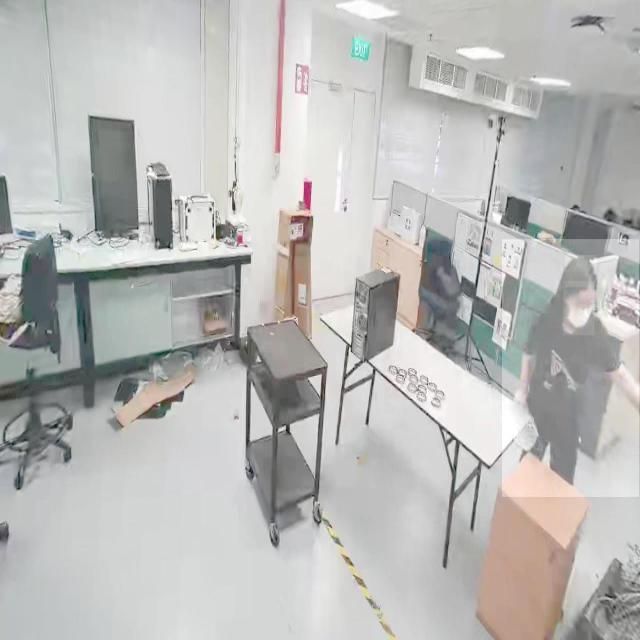face_mask: (563, 281, 595, 335)
head_nohelmet: (565, 255, 597, 288)
person: (502, 239, 640, 498)
